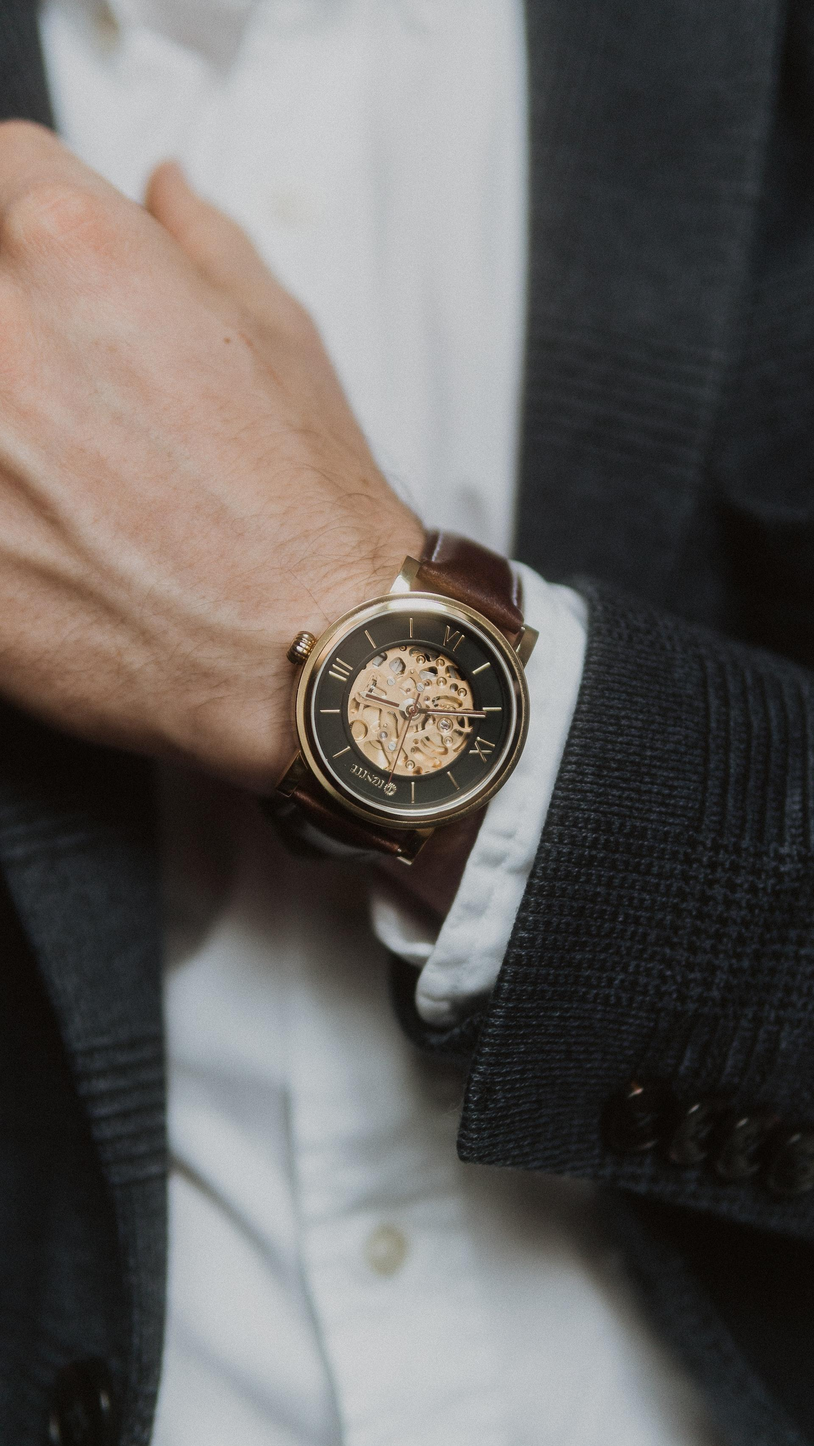watch: (281, 519, 541, 890)
